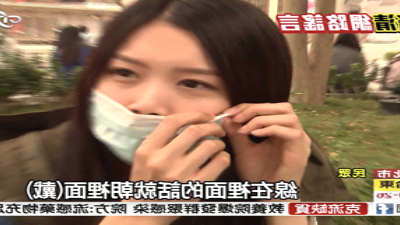mask_weared_incorrect: (84, 47, 229, 169)
